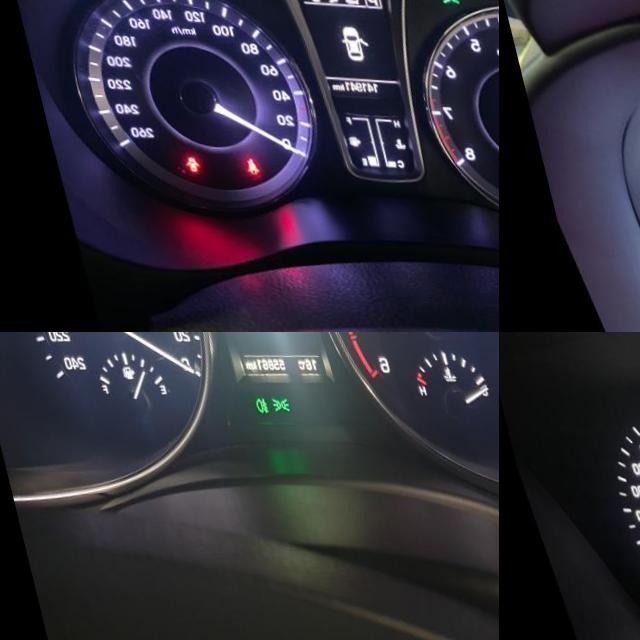Doors: (168, 154, 184, 170)
FrontFogLight: (236, 391, 252, 411)
SideLamp: (252, 391, 274, 409)
